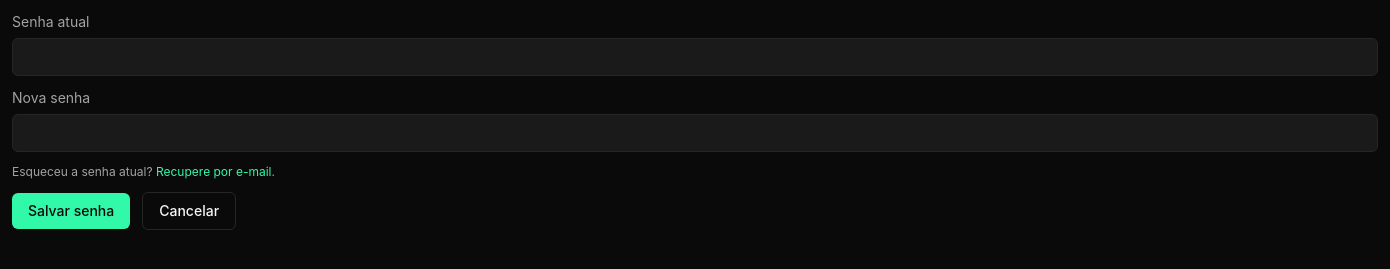
ChangePasswordForm › 400 com cause newPassword mostra o erro no campo
Type "antiga123" into the password field labelled "Senha atual". click: point(695, 57)
box: [12, 38, 1378, 76]
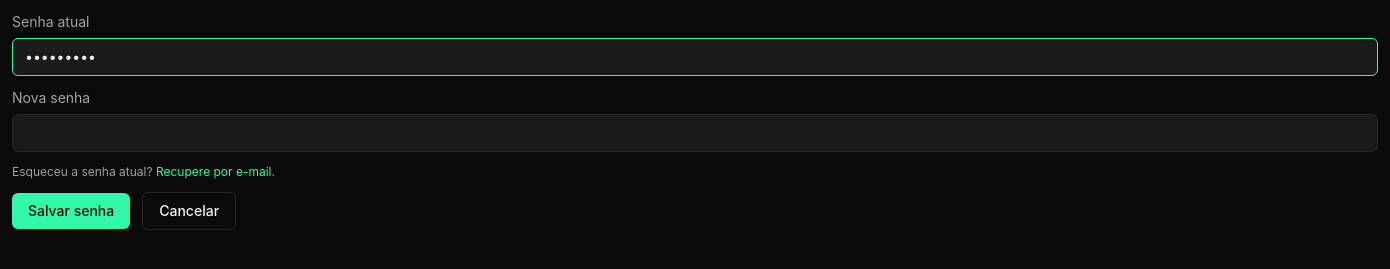
Type "nova456" into the password field labelled "Nova senha". click: point(695, 133)
box: [12, 114, 1378, 152]
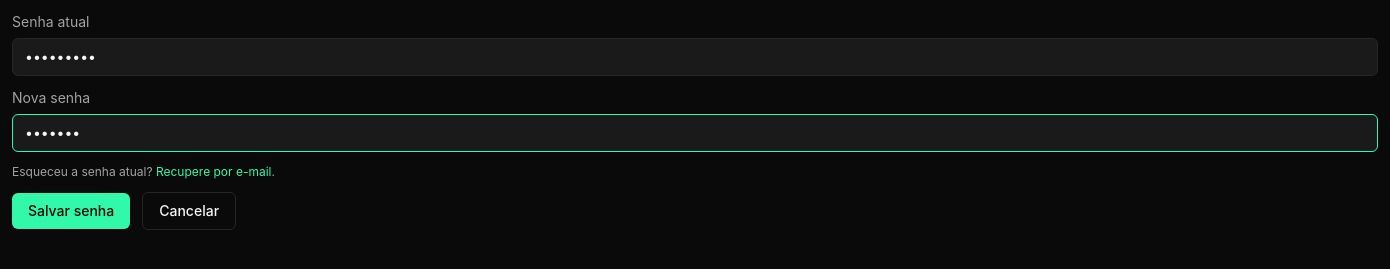
Click the button "Salvar senha". click: point(71, 211)
box: [12, 193, 130, 229]
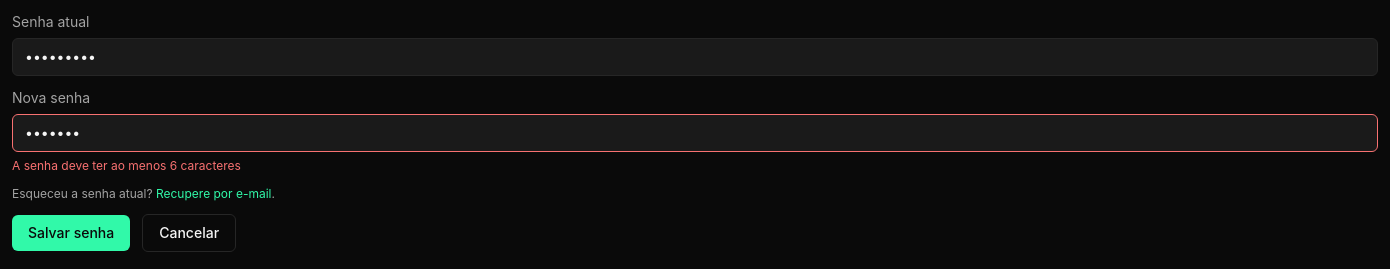
Check: the text "A senha deve ter ao menos 6 caracteres" is shown, box [12, 158, 241, 173]
